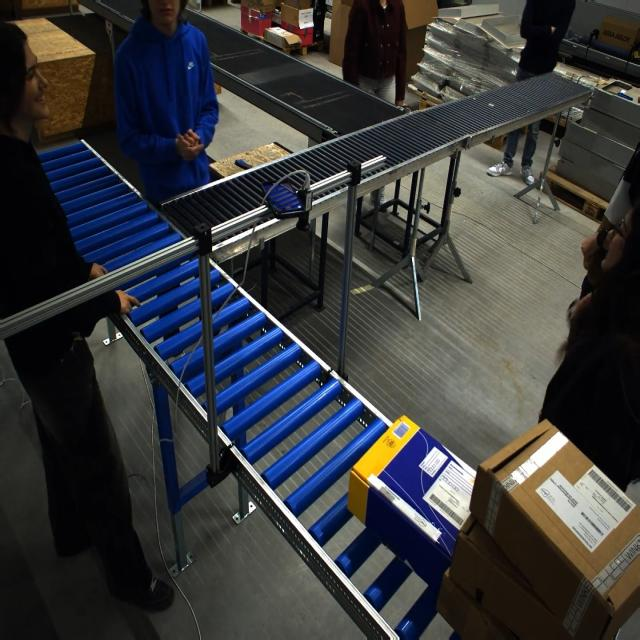box: (437, 427, 640, 639), (356, 423, 470, 590)
